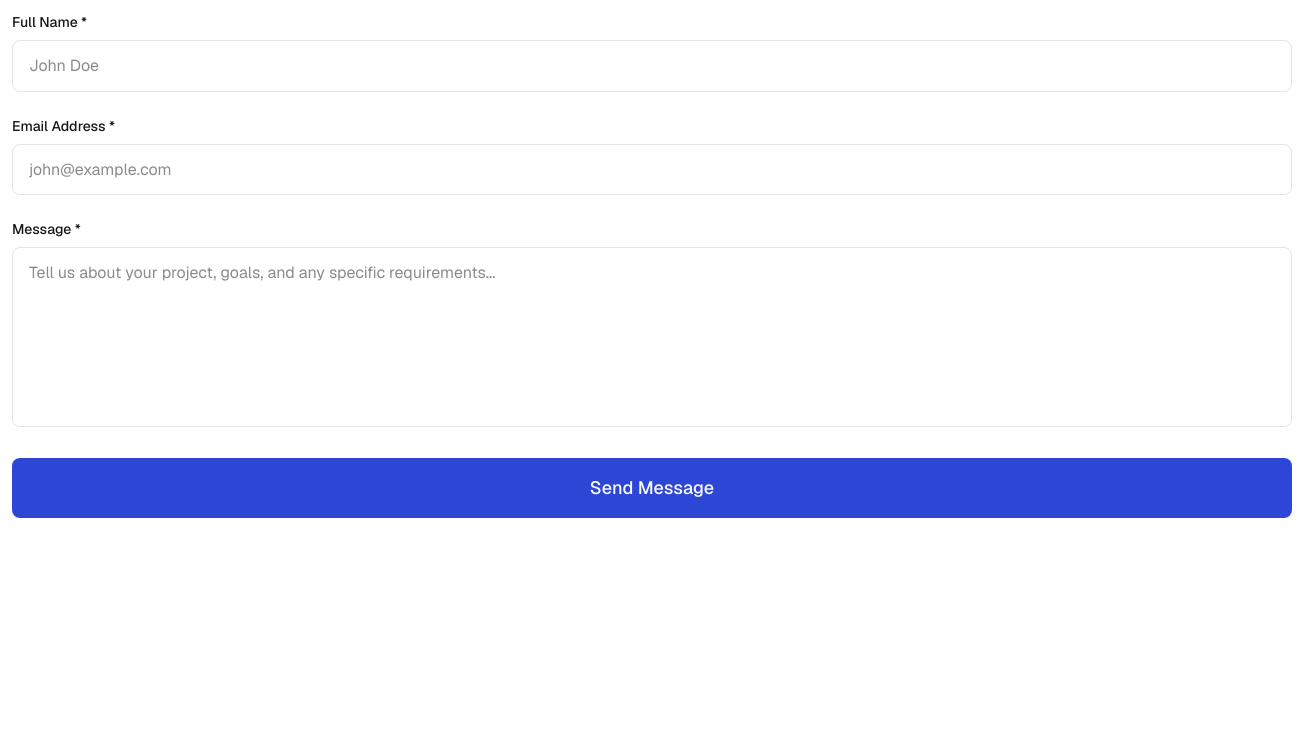
Scenario: ContactForm › clears validation errors when user starts typing
The image size is (1304, 732).
Note: Trigger validation error
Click the button "Send Message".
click(652, 488)  # box [12,458,1292,518]
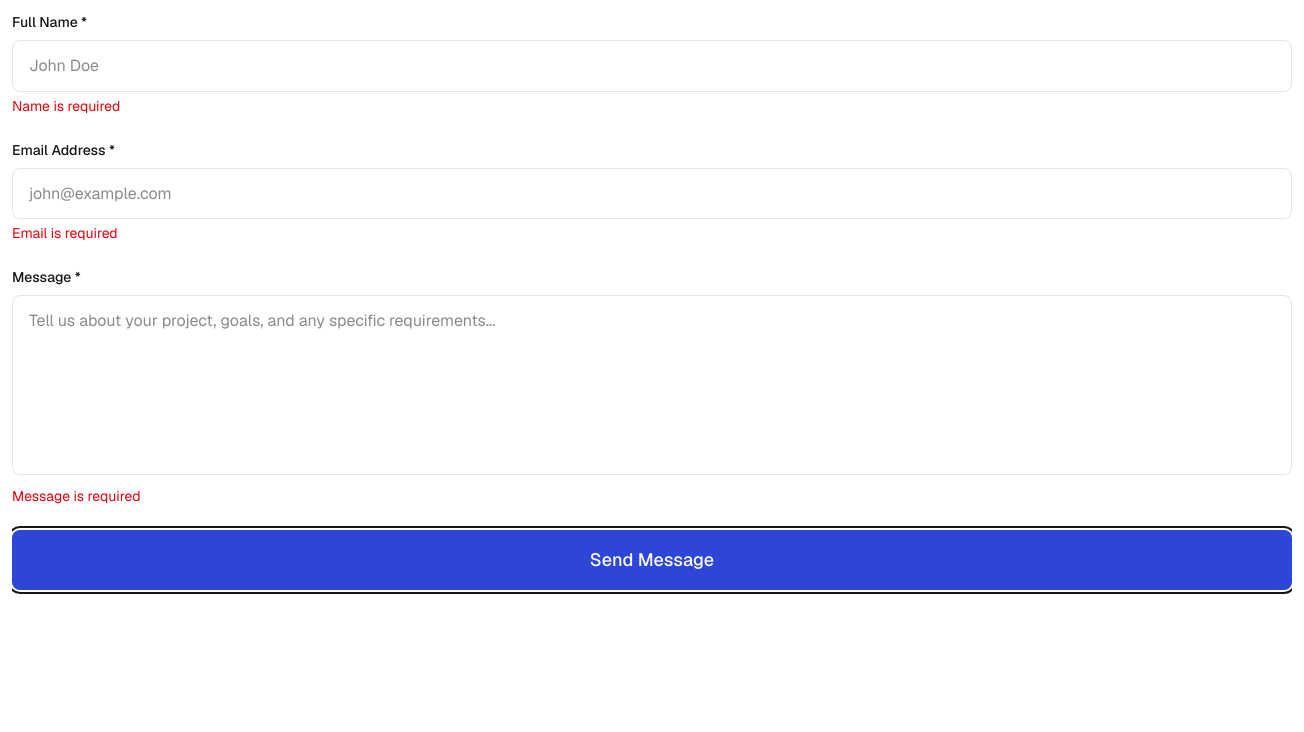
Expected: the text "Name is required" is shown, [12,97,120,115]
Note: Start typing to clear error
Type "John" into the field labelled "Full Name *".
click(652, 66); type("John")  # box [12,40,1292,92]
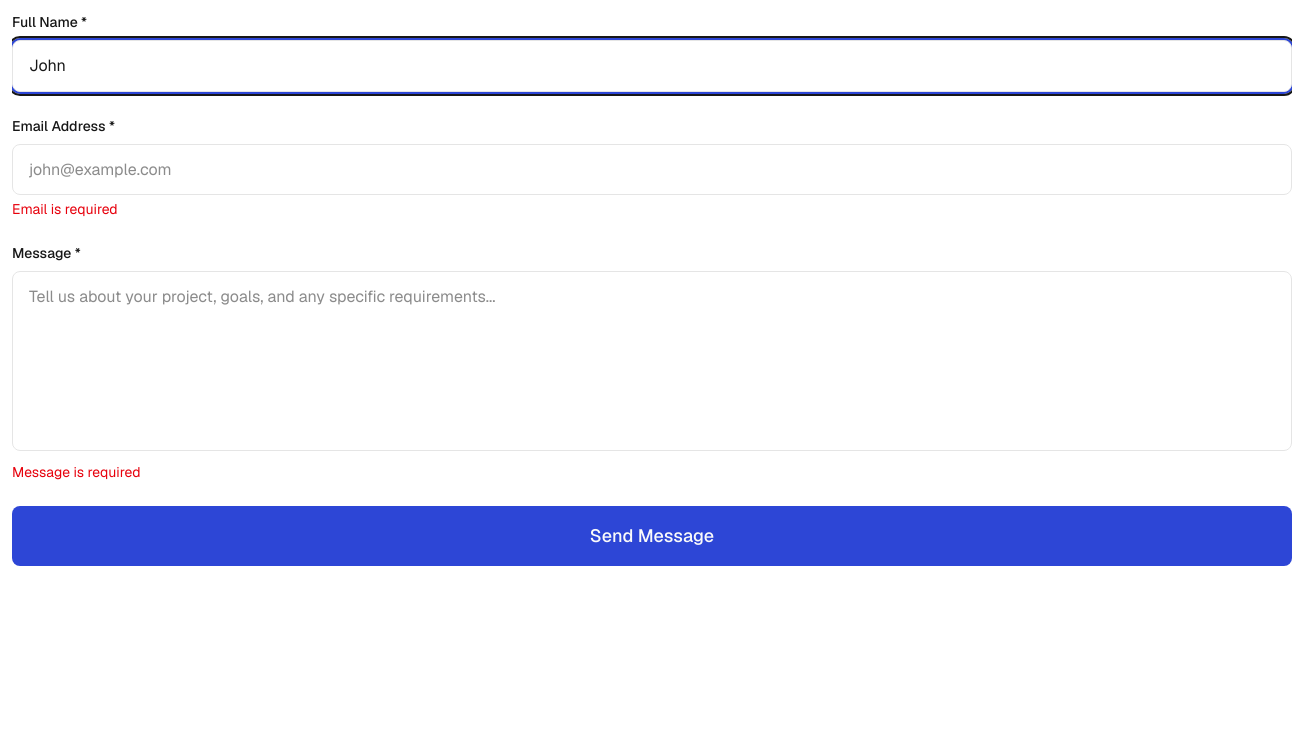
Expected: the text "Name is required" is gone
